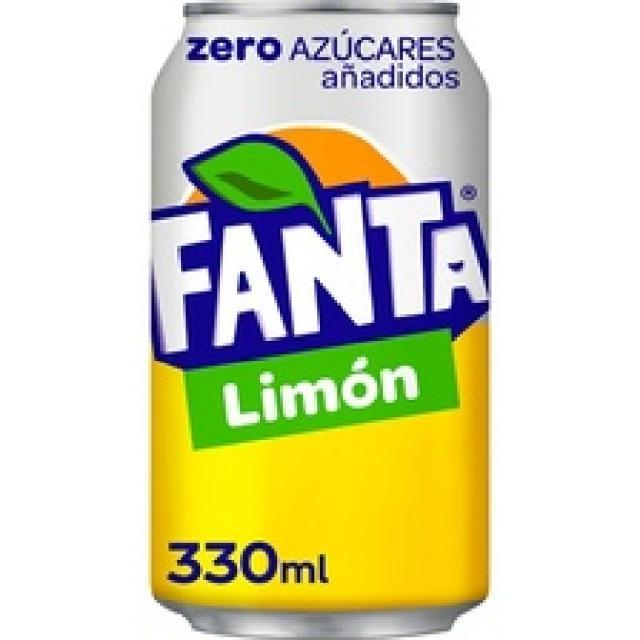recyclable: (148, 0, 488, 640)
